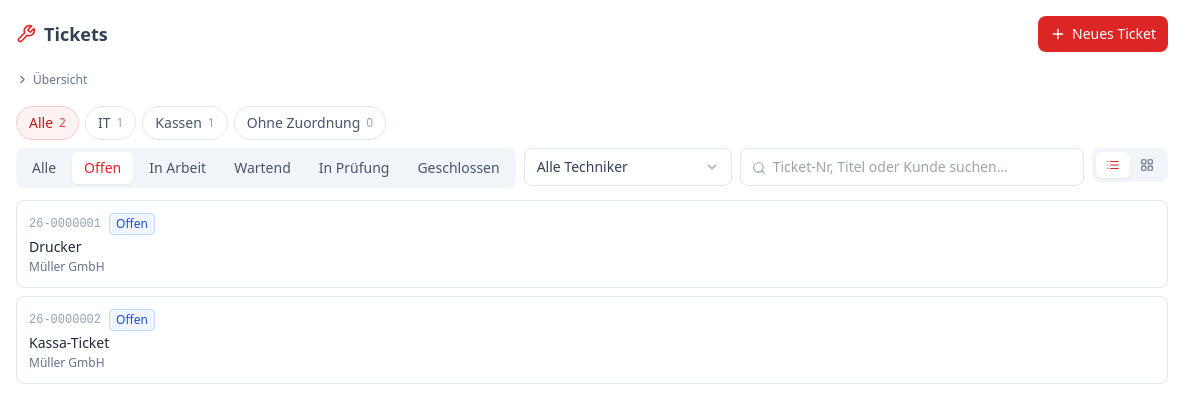
Test: TicketsPage › filters tickets by the pool pill
Check: the text "Drucker" is shown, box [29, 236, 82, 256]
Check: the number of list items with test id "ticket-row" is 2, box [16, 200, 1168, 288]; [16, 296, 1168, 384]
Click the button "IT 1" at (111, 122), box [85, 106, 136, 140]
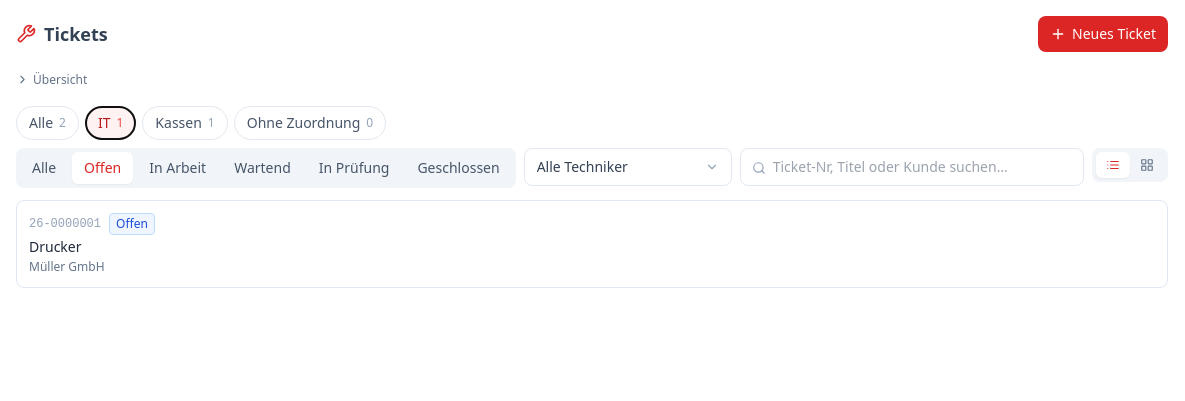
Check: the text "Drucker" is shown, box [29, 236, 82, 256]
Check: the number of list items with test id "ticket-row" is 1, box [16, 200, 1168, 288]
Check: the text "Kassa-Ticket" is gone
